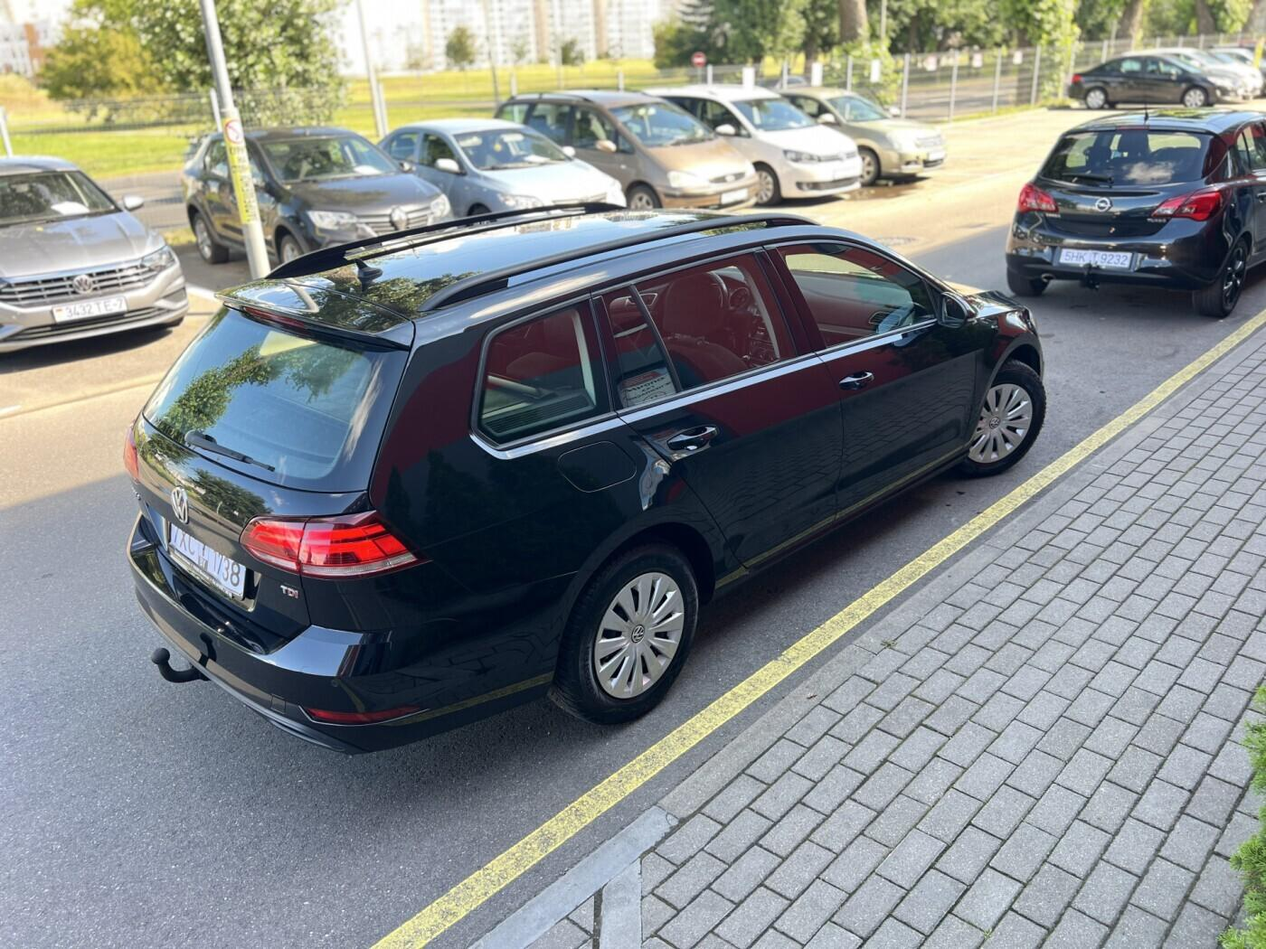Golf_2017-2021: (119, 205, 1050, 724)
